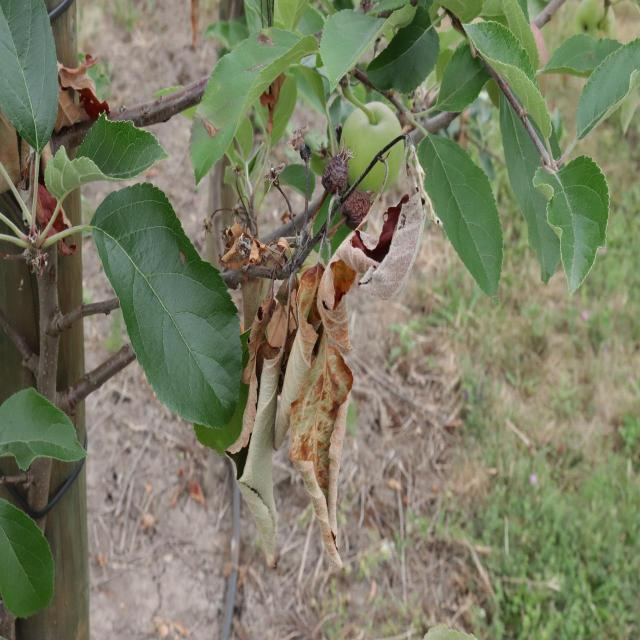-FireBlight-: (254, 270, 348, 570), (322, 137, 432, 300), (4, 125, 66, 248), (224, 220, 308, 278), (50, 51, 106, 136)
